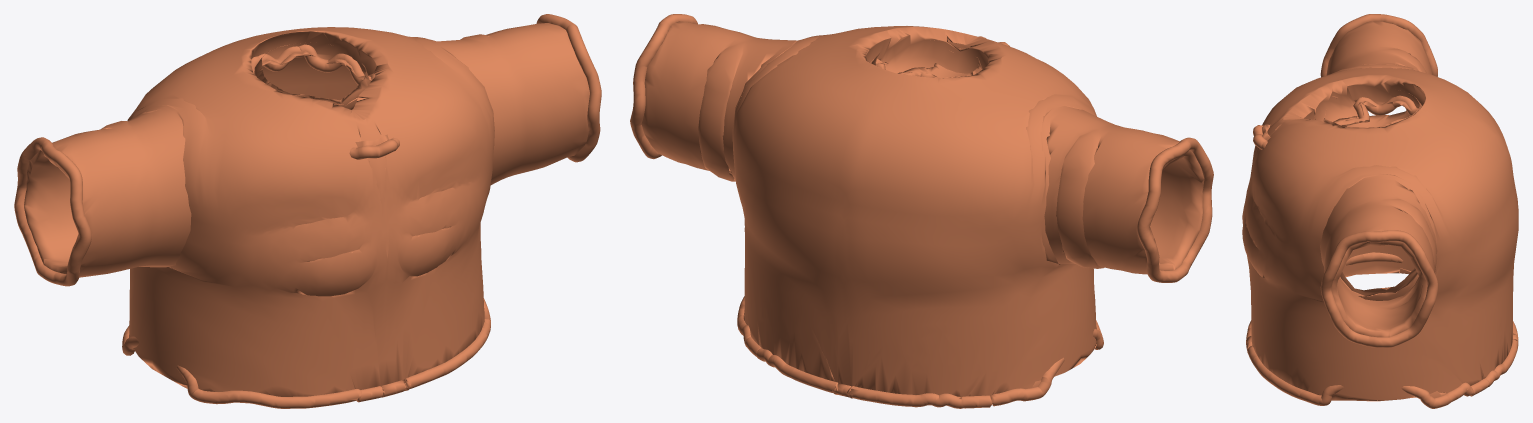
The model's file is 3HT-feminino.glb.
3 renders of one model, left to right at view 1: azimuth 30°, elevation 25°; view 2: azimuth 150°, elevation 25°; view 3: azimuth 270°, elevation 25°, orthographic. The views are drawn at different scales.
Visible parts, largest first — view 1: fitted-shell, bound-edge (×4); view 2: fitted-shell, bound-edge (×3); view 3: fitted-shell, bound-edge (×4).
Boxes of the visible parts, x1,y1,x2,y2 form: fitted-shell: (24, 23, 589, 396); bound-edge (×4): (14, 14, 601, 408); fitted-shell: (641, 21, 1204, 396); bound-edge (×3): (630, 14, 1213, 408); fitted-shell: (1242, 21, 1518, 401); bound-edge (×4): (1246, 14, 1518, 408).
Size of the model in its own units: 0.0629 by 0.0327 by 0.0329.
